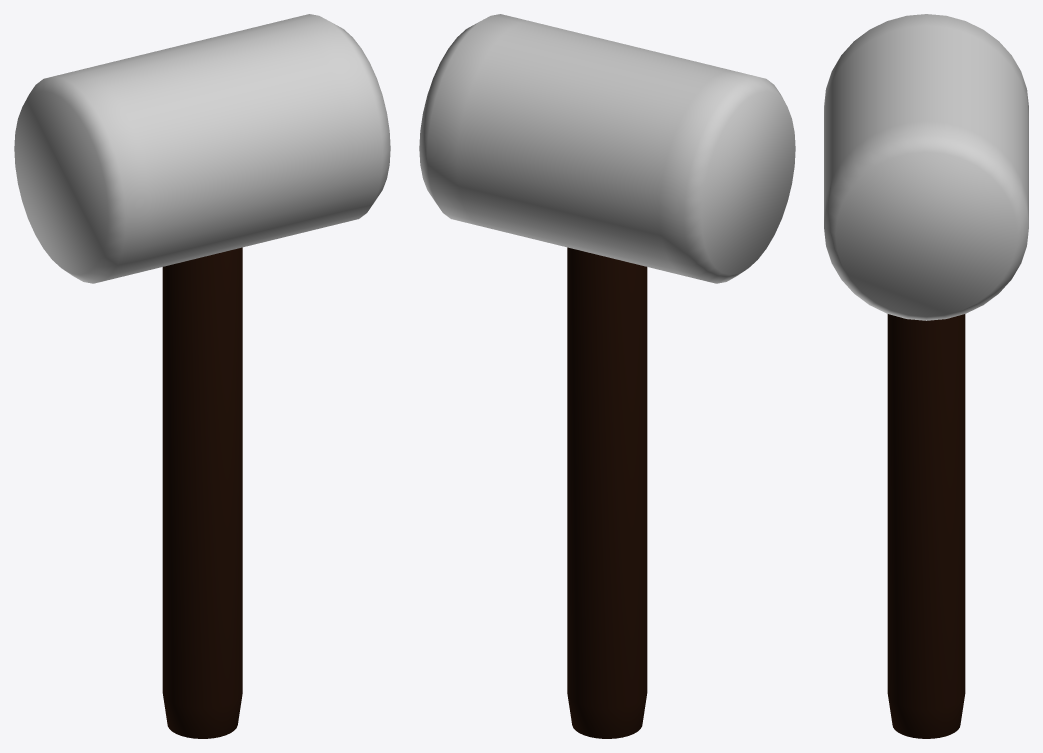
Rendered from Hammer.obj.
The picture shows the model from 3 angles, left to right: view 1: azimuth 30°, elevation 25°; view 2: azimuth 150°, elevation 25°; view 3: azimuth 270°, elevation 25°; orthographic projection. The views are drawn at different scales.
Parts seen in each view (by area): view 1: Cylinder.001, Cylinder; view 2: Cylinder.001, Cylinder; view 3: Cylinder.001, Cylinder.
Part boxes in pixels (bbox=[...]): Cylinder.001: bbox=[14, 14, 390, 283]; Cylinder: bbox=[162, 247, 242, 738]; Cylinder.001: bbox=[419, 14, 795, 283]; Cylinder: bbox=[567, 247, 647, 738]; Cylinder.001: bbox=[824, 14, 1028, 320]; Cylinder: bbox=[887, 314, 965, 738].
Size of the model in its own units: 2.56 by 5.82 by 1.67.
